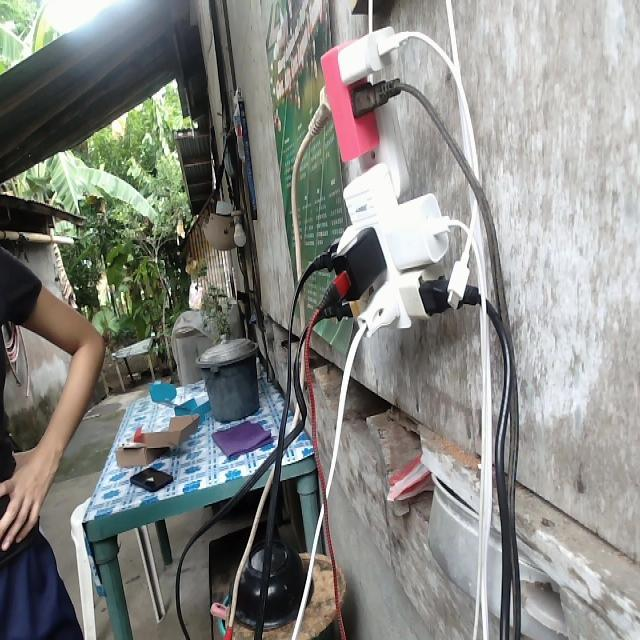-: (290, 20, 448, 341)
